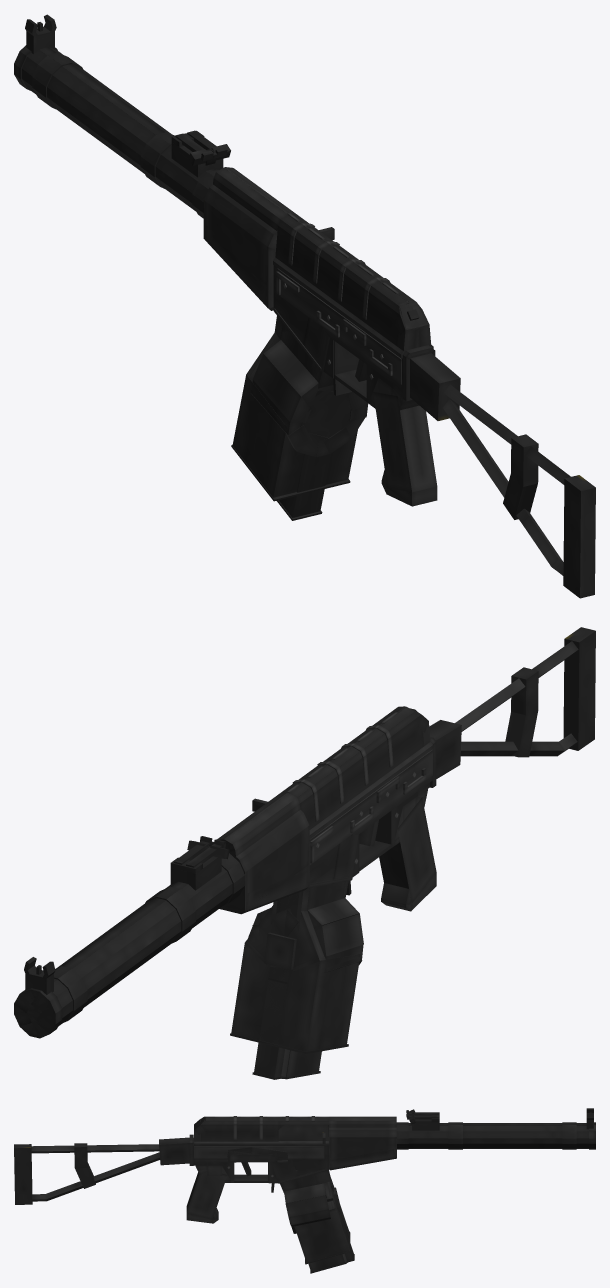
Rendered from a4_asval.geo.fbx.
3 views of the same model, one above another, from view 1: azimuth 30°, elevation 25°; view 2: azimuth 150°, elevation 25°; view 3: azimuth 270°, elevation 25° (orthographic). The views are drawn at different scales.
Parts seen in each view (by area): view 1: handguard, magazine6, bone6, bone11, bone26, bone30, bone, gun, dustcover, stock, pgriptrigger, bone12 (+4 smaller); view 2: handguard, bone26, bone6, bone11, bone30, gun, bone, magazine6, dustcover, magazine10, stock, pgriptrigger (+8 smaller); view 3: handguard, bone6, bone11, bone26, magazine6, gun, bone31, bone, dustcover, pgriptrigger, stock, bone12 (+8 smaller).
Part boxes in pixels (x1=…): handguard: x1=25, y1=14, x2=296, y2=310; magazine6: x1=251, y1=330, x2=368, y2=457; bone6: x1=22, y1=47, x2=217, y2=211; bone11: x1=443, y1=384, x2=595, y2=598; bone26: x1=231, y1=374, x2=357, y2=501; bone30: x1=275, y1=219, x2=419, y2=351; bone: x1=373, y1=392, x2=437, y2=506; gun: x1=273, y1=265, x2=435, y2=401; dustcover: x1=273, y1=213, x2=434, y2=359; stock: x1=410, y1=353, x2=537, y2=519; pgriptrigger: x1=323, y1=338, x2=418, y2=410; bone12: x1=443, y1=399, x2=563, y2=569; handguard: x1=24, y1=792, x2=309, y2=994; bone26: x1=230, y1=943, x2=360, y2=1053; bone6: x1=53, y1=866, x2=232, y2=1025; bone11: x1=455, y1=627, x2=595, y2=750; bone30: x1=297, y1=711, x2=430, y2=829; gun: x1=309, y1=736, x2=436, y2=883; bone: x1=379, y1=797, x2=436, y2=911; magazine6: x1=248, y1=881, x2=363, y2=972; dustcover: x1=280, y1=706, x2=436, y2=838; magazine10: x1=245, y1=882, x2=360, y2=971; stock: x1=429, y1=711, x2=537, y2=778; pgriptrigger: x1=346, y1=782, x2=429, y2=895; handguard: x1=329, y1=1108, x2=593, y2=1170; bone6: x1=408, y1=1123, x2=588, y2=1148; bone11: x1=14, y1=1143, x2=159, y2=1204; bone26: x1=294, y1=1203, x2=350, y2=1264; magazine6: x1=280, y1=1174, x2=339, y2=1233; gun: x1=189, y1=1134, x2=328, y2=1169; bone31: x1=194, y1=1121, x2=328, y2=1141; bone: x1=186, y1=1172, x2=227, y2=1223; dustcover: x1=189, y1=1116, x2=329, y2=1145; pgriptrigger: x1=193, y1=1162, x2=278, y2=1192; stock: x1=75, y1=1137, x2=189, y2=1188; bone12: x1=45, y1=1152, x2=159, y2=1200.
Bounding box in the file's own units: 52.82 × 194 × 645.
1 material, 1 textured.
